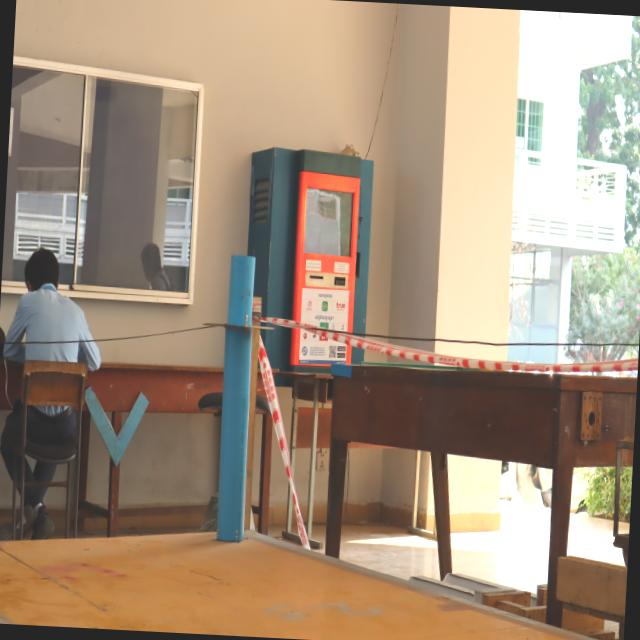pole: (198, 248, 276, 408)
